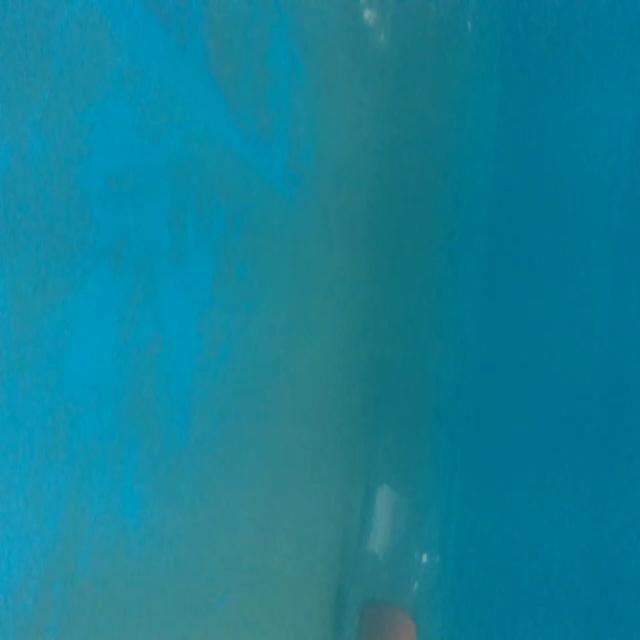plastic bottle: (326, 314, 484, 640)
